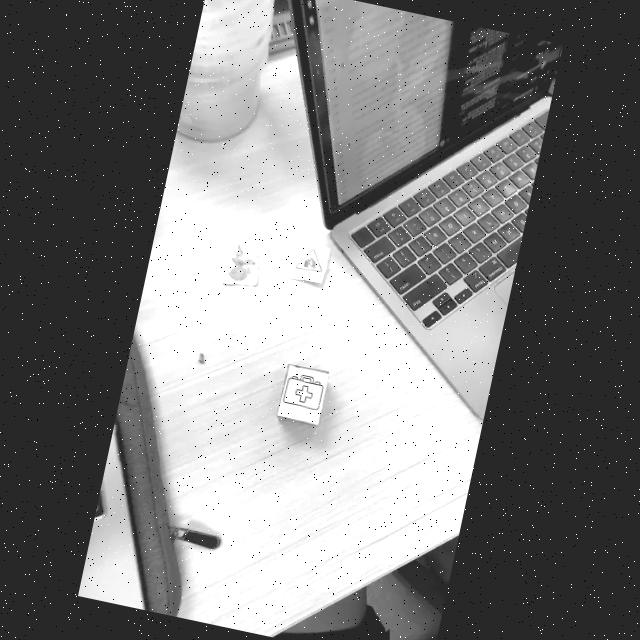Medkit: (283, 373, 325, 416)
